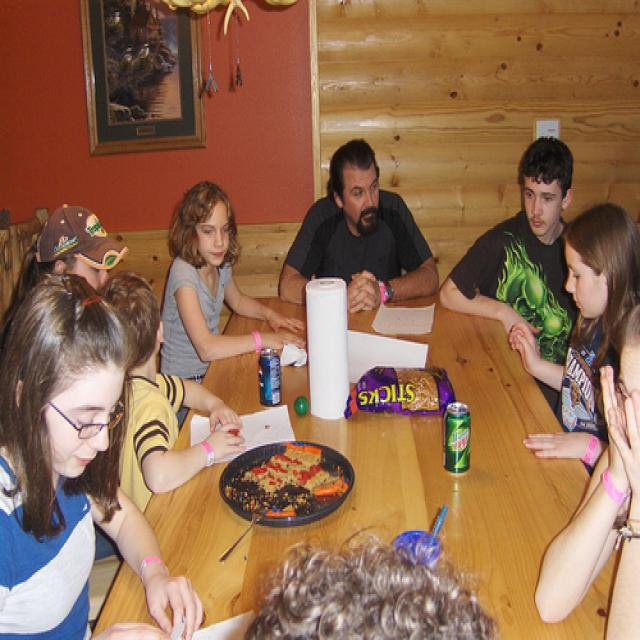chair: (0, 209, 50, 336)
dining table: (92, 293, 621, 634)
